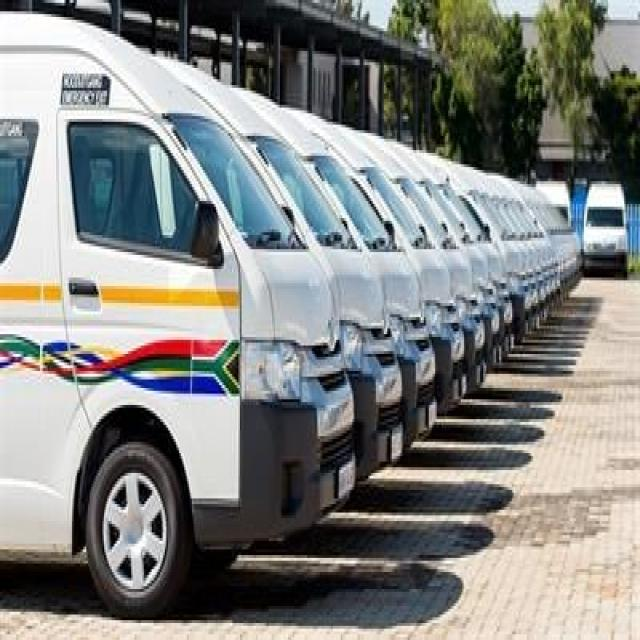MiniBus taxi: (74, 23, 356, 620)
